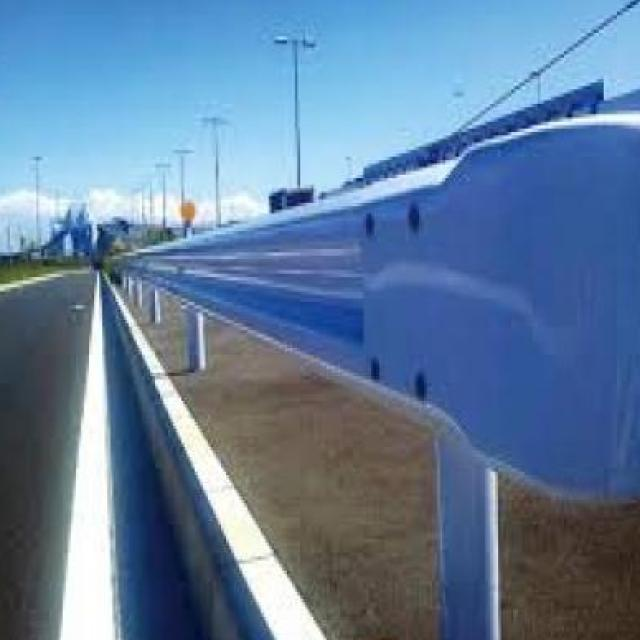Guard rail: (117, 94, 640, 615)
